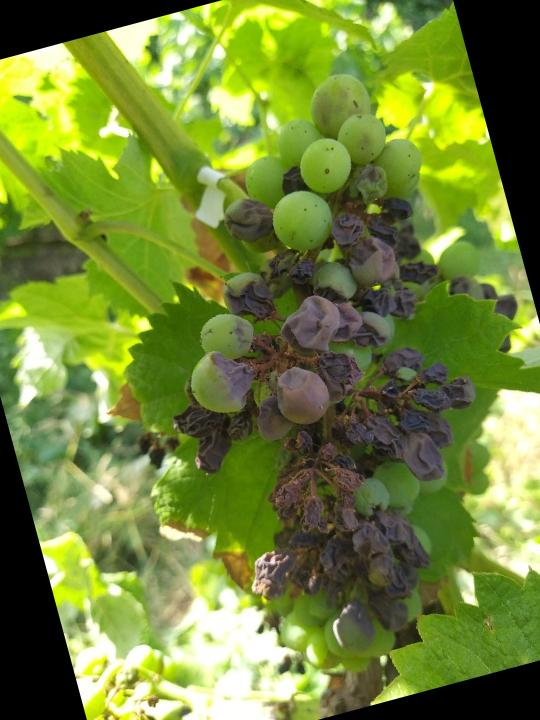grape: (91, 41, 540, 709)
